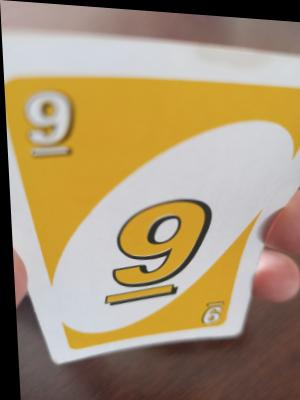num_9: (66, 186, 215, 311), (17, 75, 94, 197)
